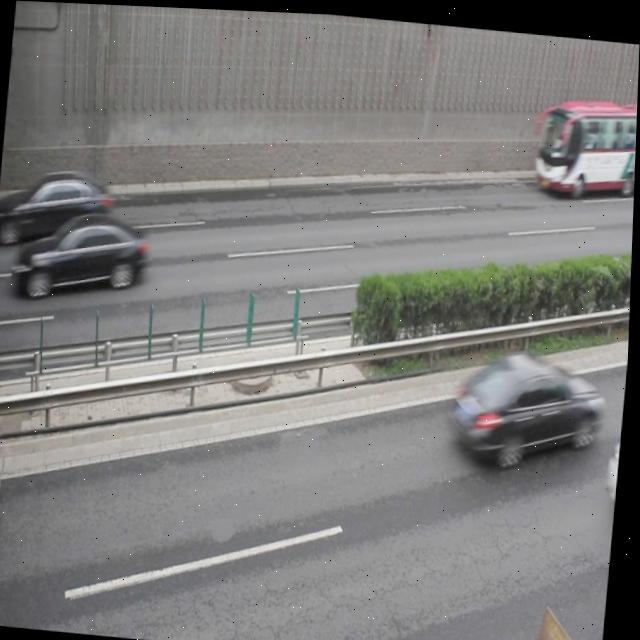car: (450, 339, 601, 459), (27, 209, 152, 301), (7, 164, 119, 250)
van: (532, 88, 638, 197)
